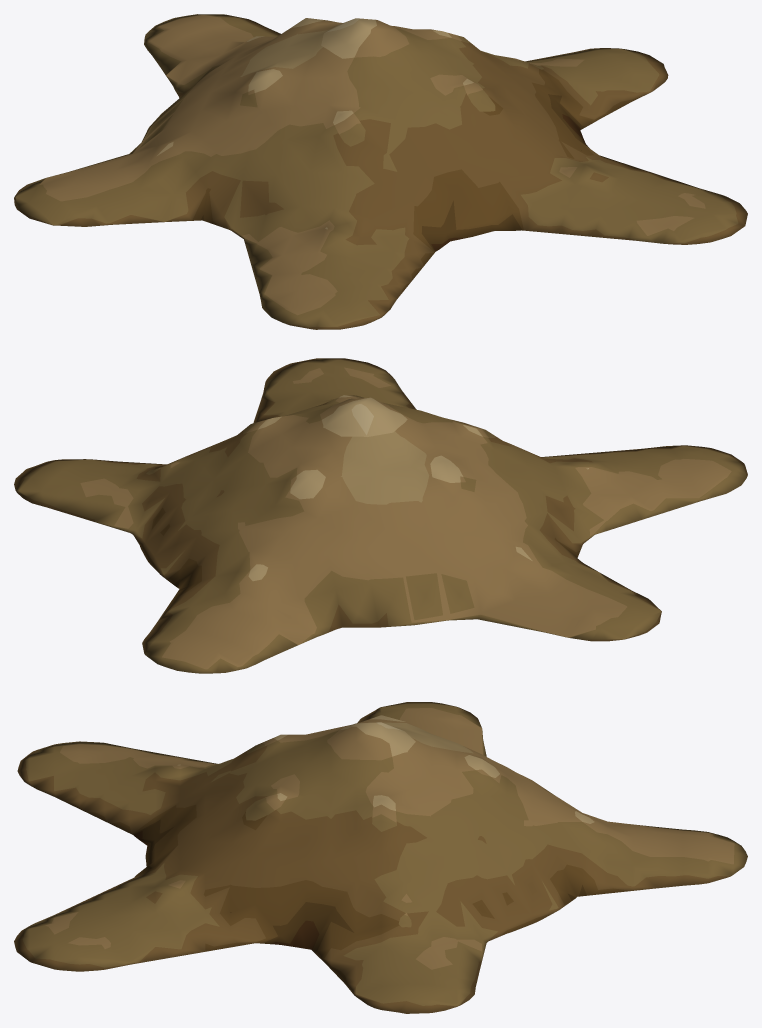
The model's file is coral_starlet.glb.
3 views of the same model, one above another, from view 1: azimuth 30°, elevation 25°; view 2: azimuth 150°, elevation 25°; view 3: azimuth 270°, elevation 25° (orthographic).
Visible parts, largest first — view 1: coral_starlet; view 2: coral_starlet; view 3: coral_starlet.
Part boxes in pixels (x1=…): coral_starlet: x1=14, y1=14, x2=747, y2=329; coral_starlet: x1=14, y1=358, x2=747, y2=673; coral_starlet: x1=14, y1=702, x2=747, y2=1013.
Bounding box in the file's own units: 9.98 × 2 × 9.93.
